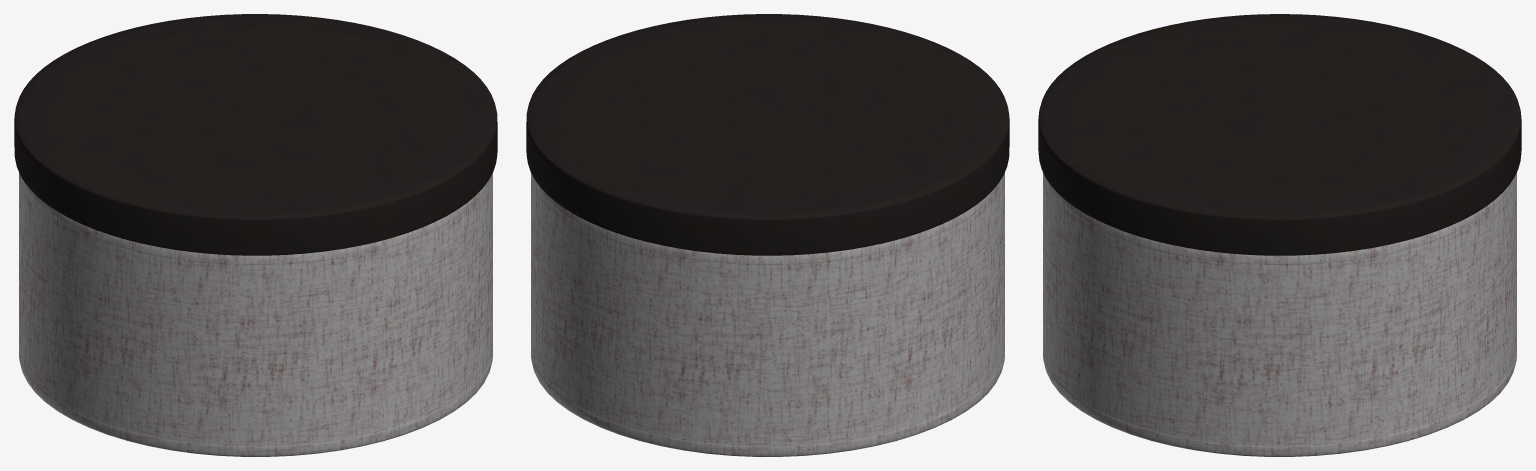
File: lamp_B07DBHGJ15.glb
The picture shows the model from 3 angles, left to right: view 1: azimuth 30°, elevation 25°; view 2: azimuth 150°, elevation 25°; view 3: azimuth 270°, elevation 25°; orthographic projection.
Visible parts, largest first — view 1: RootNode; view 2: RootNode; view 3: RootNode.
Part boxes in pixels (x1,y1,x2,y2): RootNode: (14, 14, 497, 456); RootNode: (526, 14, 1009, 456); RootNode: (1038, 14, 1521, 456).
Bounding box in the file's own units: 0.3895 × 0.2292 × 0.3895.
Materials: 1 (1 with a texture image).
